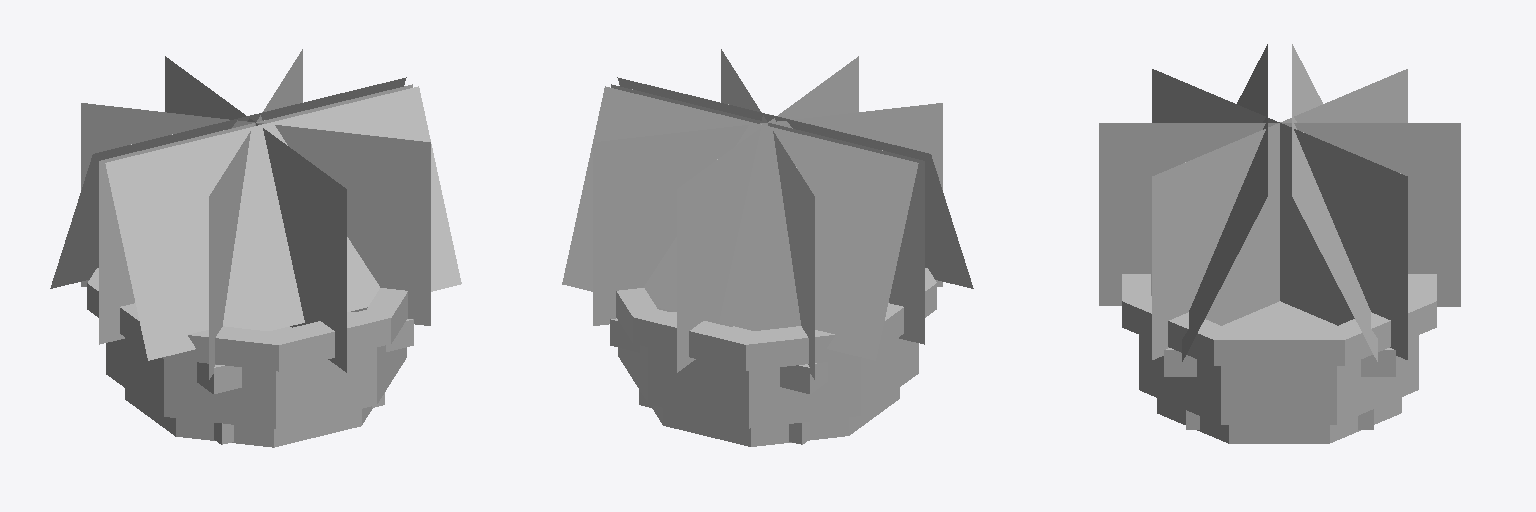
The model's file is 3470_round_flower_pot.obj.
3 views of the same model, side by side, from view 1: azimuth 30°, elevation 25°; view 2: azimuth 150°, elevation 25°; view 3: azimuth 270°, elevation 25° (orthographic).
Parts seen in each view (by area): view 1: Plant6, Plant2, Plant4, Plant5, Middle1, Plant3, Middle8, Plant1, Top1, Top8, Middle7, dirt (+6 smaller); view 2: Plant5, Plant3, Plant4, Plant6, Middle5, Plant2, Middle6, Plant1, Top5, Top6, Middle7, dirt (+7 smaller); view 3: Plant4, Plant3, Plant2, Middle3, Plant5, Plant6, Top3, Middle2, Middle4, dirt, Top2, Top4 (+5 smaller).
Part boxes in pixels (left/top/right/bottom): Plant6: left=105, top=86, right=461, bottom=360; Plant2: left=81, top=103, right=430, bottom=325; Plant4: left=165, top=56, right=346, bottom=372; Plant5: left=50, top=77, right=406, bottom=288; Middle1: left=276, top=348, right=376, bottom=429; Plant3: left=209, top=49, right=302, bottom=379; Middle8: left=164, top=359, right=275, bottom=428; Plant1: left=99, top=84, right=412, bottom=344; Top1: left=268, top=307, right=390, bottom=370; Top8: left=162, top=326, right=285, bottom=371; Middle7: left=106, top=338, right=163, bottom=415; dirt: left=197, top=312, right=413, bottom=393; Plant5: left=562, top=86, right=918, bottom=360; Plant3: left=593, top=103, right=942, bottom=325; Plant4: left=677, top=56, right=858, bottom=372; Plant6: left=617, top=77, right=973, bottom=288; Middle5: left=648, top=347, right=748, bottom=428; Plant2: left=721, top=49, right=814, bottom=379; Middle6: left=749, top=358, right=860, bottom=428; Plant1: left=611, top=84, right=924, bottom=344; Top5: left=633, top=307, right=751, bottom=370; Top6: left=739, top=326, right=861, bottom=370; Middle7: left=861, top=338, right=918, bottom=415; dirt: left=610, top=312, right=827, bottom=393; Plant4: left=1099, top=123, right=1460, bottom=306; Plant3: left=1152, top=69, right=1407, bottom=359; Plant2: left=1152, top=69, right=1407, bottom=359; Middle3: left=1221, top=366, right=1336, bottom=424; Plant5: left=1292, top=44, right=1377, bottom=361; Plant6: left=1182, top=44, right=1267, bottom=361; Top3: left=1214, top=328, right=1344, bottom=365; Middle2: left=1139, top=335, right=1220, bottom=424; Middle4: left=1337, top=335, right=1418, bottom=423; dirt: left=1164, top=301, right=1395, bottom=376; Top2: left=1122, top=293, right=1234, bottom=365; Top4: left=1324, top=296, right=1436, bottom=365.
Size of the model in its own units: 1.56 by 1.29 by 1.56.